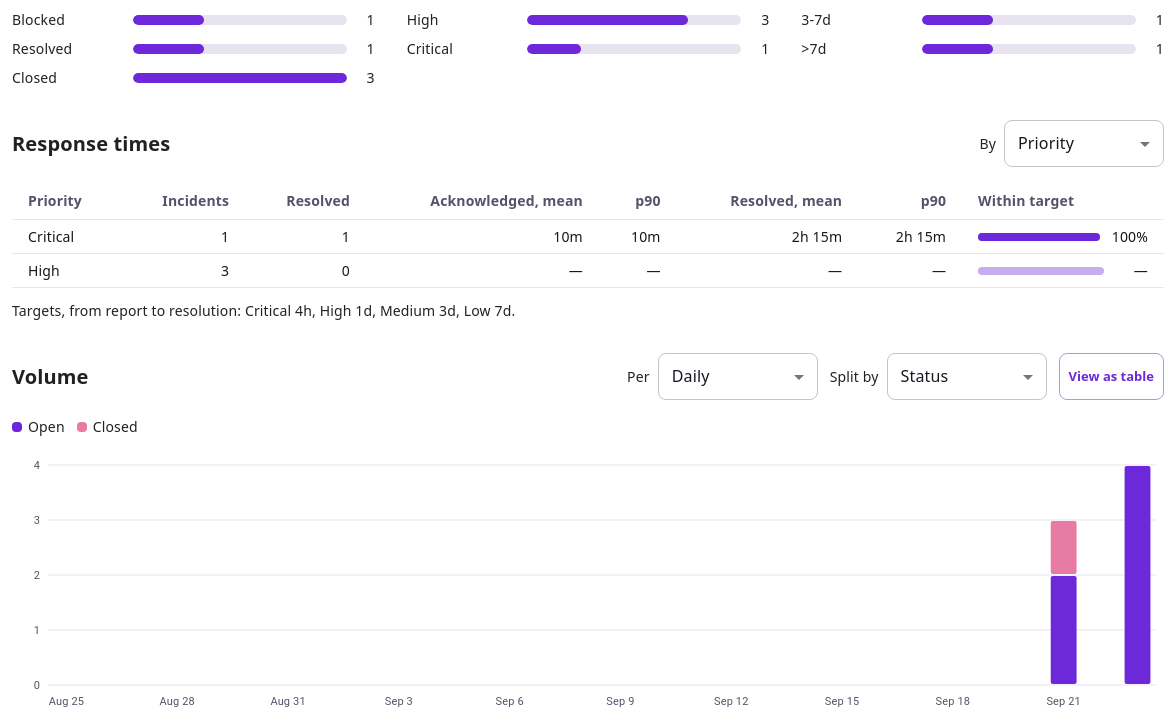
Test: ReportsPage › draws the volume with a legend and swaps to a table
(page scrolled)
Expected: the list items read "Open", "Closed", in this order, [12, 416, 65, 437]; [77, 416, 138, 437]
Step 1. Click the button "View as table" → (1111, 377), box [1059, 353, 1164, 400]
(page scrolled)
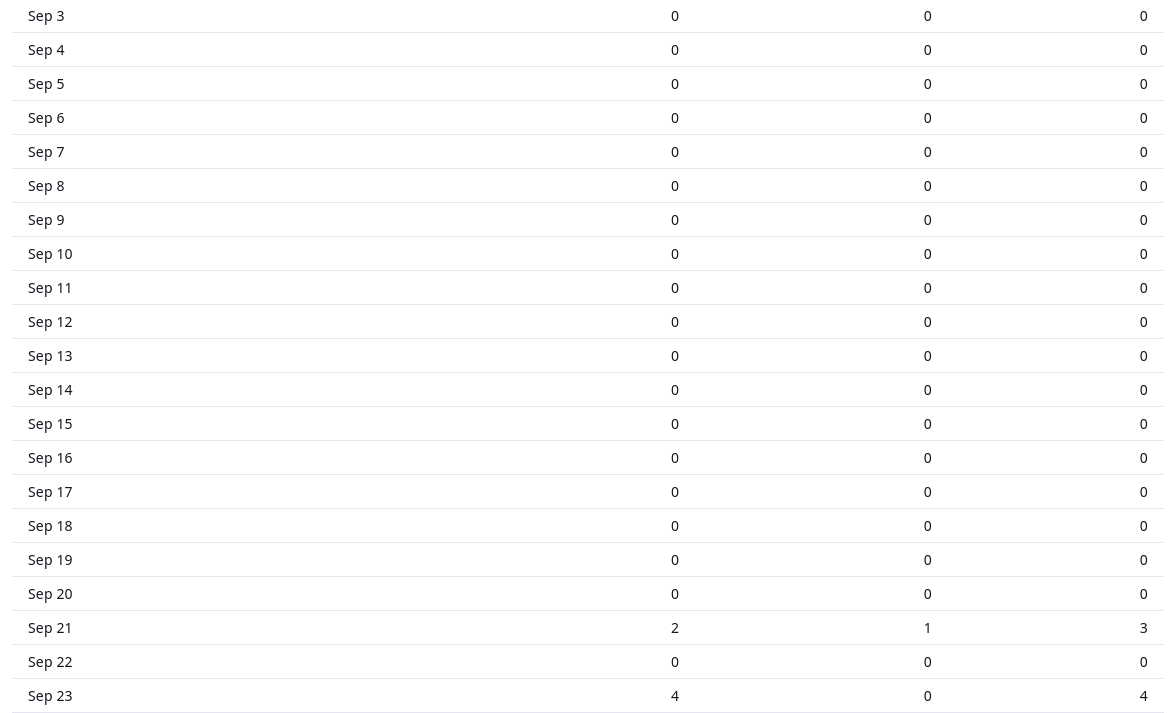
Expected: the cell "Sep 23" is shown, [12, 679, 470, 712]
